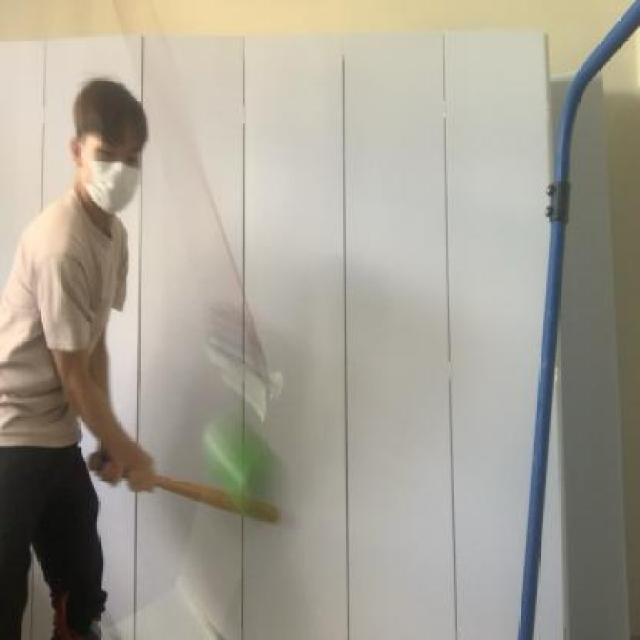baseball: (188, 398, 292, 532)
